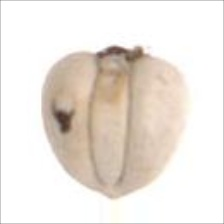L5: (85, 60, 136, 188), (88, 43, 150, 73)
L6: (38, 44, 188, 201)
